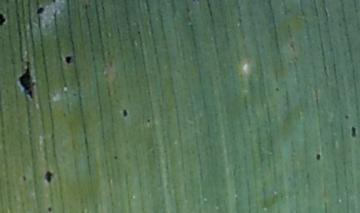tarspot: (18, 61, 36, 102), (44, 170, 53, 182), (65, 54, 73, 65), (1, 13, 7, 27), (351, 126, 357, 139), (36, 6, 45, 14), (122, 107, 128, 118), (315, 152, 322, 160), (47, 205, 53, 213), (274, 85, 280, 93), (113, 155, 119, 161), (146, 118, 152, 124), (345, 113, 349, 120), (22, 176, 27, 181)
